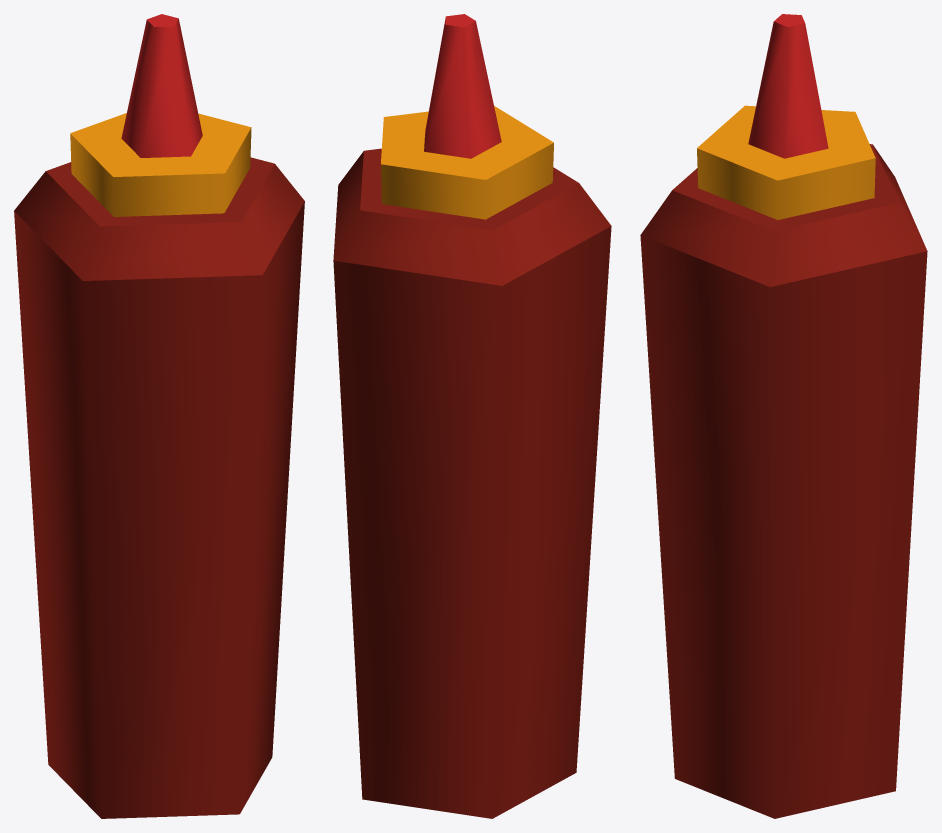
Rendered from Ketchap.glb.
3 renders of one model, left to right at view 1: azimuth 30°, elevation 25°; view 2: azimuth 150°, elevation 25°; view 3: azimuth 270°, elevation 25°, orthographic.
Visible parts, largest first — view 1: Ketchap; view 2: Ketchap; view 3: Ketchap.
Boxes of the visible parts, left/top/right/bottom form: Ketchap: left=14, top=14, right=304, bottom=818; Ketchap: left=333, top=14, right=611, bottom=818; Ketchap: left=640, top=14, right=927, bottom=818.
Size of the model in its own units: 0.0818 by 0.2375 by 0.0824.
Materials: 1 (1 with a texture image).
